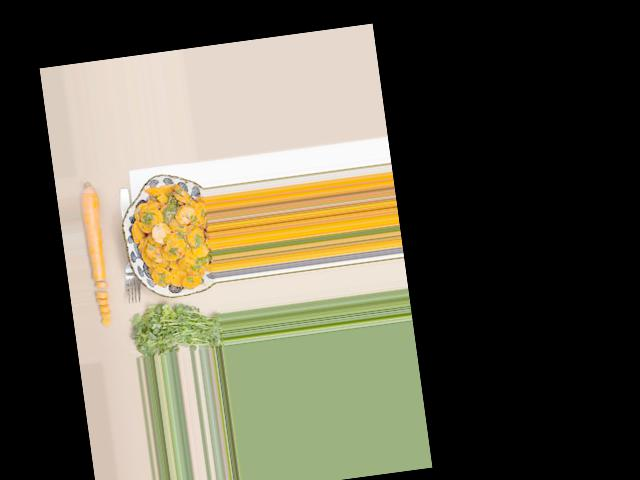carrot: (77, 180, 111, 290)
